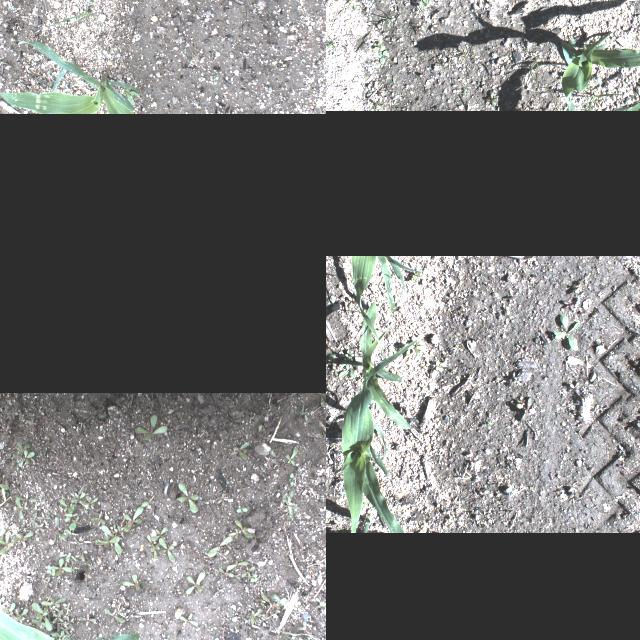crop: (340, 303, 420, 533), (326, 256, 498, 339), (0, 41, 139, 113), (559, 5, 640, 110), (0, 581, 139, 640), (613, 95, 640, 110)
weed: (42, 0, 99, 28), (248, 594, 290, 624), (551, 311, 583, 349), (510, 396, 544, 424), (132, 414, 168, 440), (122, 501, 150, 532), (515, 60, 543, 90), (93, 524, 121, 554), (580, 92, 626, 110), (206, 531, 234, 557), (32, 603, 58, 631), (176, 482, 198, 512), (280, 488, 300, 520), (225, 519, 255, 539), (556, 298, 588, 316), (12, 442, 34, 466), (185, 571, 205, 595), (47, 558, 73, 576), (150, 525, 168, 549), (158, 538, 176, 562), (338, 360, 362, 378), (0, 469, 10, 511), (145, 534, 161, 560), (120, 574, 140, 592), (230, 440, 248, 460), (16, 490, 36, 508), (103, 608, 125, 624), (282, 445, 298, 467), (326, 351, 338, 380), (0, 531, 13, 555), (179, 613, 199, 627), (11, 530, 34, 542), (78, 611, 95, 627), (332, 0, 358, 10), (40, 597, 66, 607), (122, 89, 138, 105), (483, 90, 499, 106), (90, 510, 106, 526), (12, 607, 28, 623), (569, 278, 585, 294), (64, 504, 78, 522), (80, 496, 100, 508), (225, 560, 249, 570), (70, 491, 86, 505), (67, 515, 81, 531), (58, 497, 72, 513), (432, 356, 446, 372), (14, 497, 24, 519), (218, 566, 235, 578), (362, 513, 372, 533), (36, 511, 50, 525), (241, 566, 257, 578), (480, 420, 496, 432), (629, 400, 640, 417), (502, 303, 512, 321), (50, 631, 69, 640), (52, 610, 64, 624), (2, 602, 16, 614), (374, 16, 392, 24), (58, 554, 76, 562), (377, 49, 388, 62), (33, 520, 43, 534), (64, 614, 74, 628), (417, 0, 429, 11), (235, 506, 248, 514), (372, 102, 384, 110), (0, 528, 5, 546), (288, 472, 294, 486), (212, 75, 220, 85), (317, 601, 326, 609), (390, 74, 396, 84), (346, 348, 352, 358), (636, 79, 640, 93), (374, 42, 381, 50), (326, 40, 332, 47), (463, 88, 467, 96)
